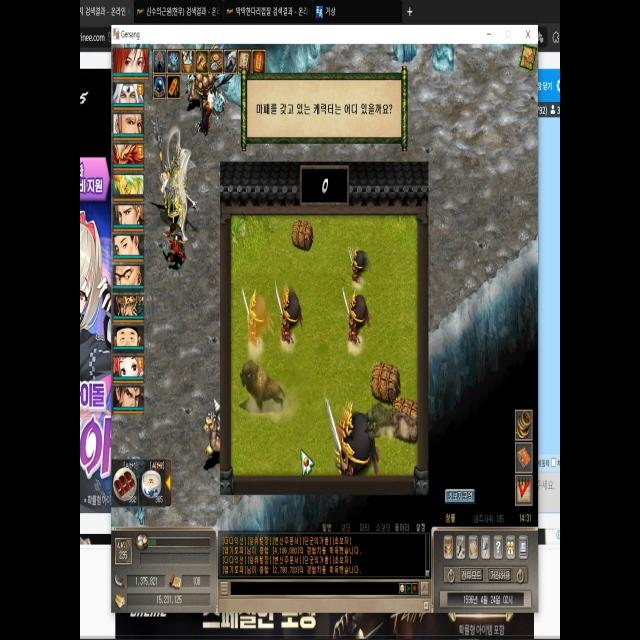character_brown: (334, 400, 380, 479), (246, 288, 274, 356), (279, 281, 304, 353), (347, 290, 373, 354), (351, 247, 373, 288)
